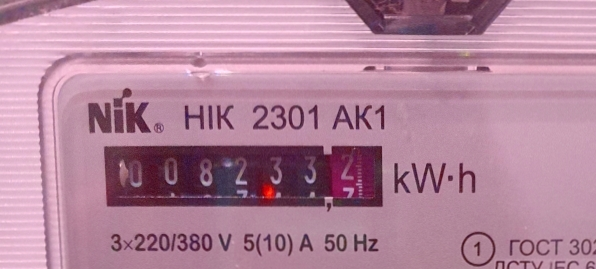0: (125, 156, 145, 188), (161, 155, 179, 186)
2: (230, 154, 250, 187), (338, 150, 356, 181)
3: (302, 152, 319, 184), (267, 154, 284, 185)
8: (197, 155, 214, 187)
screen: (93, 133, 394, 216)
